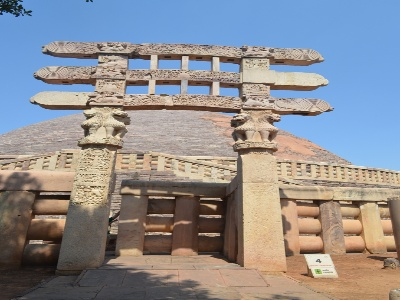torana: (27, 29, 332, 208)
